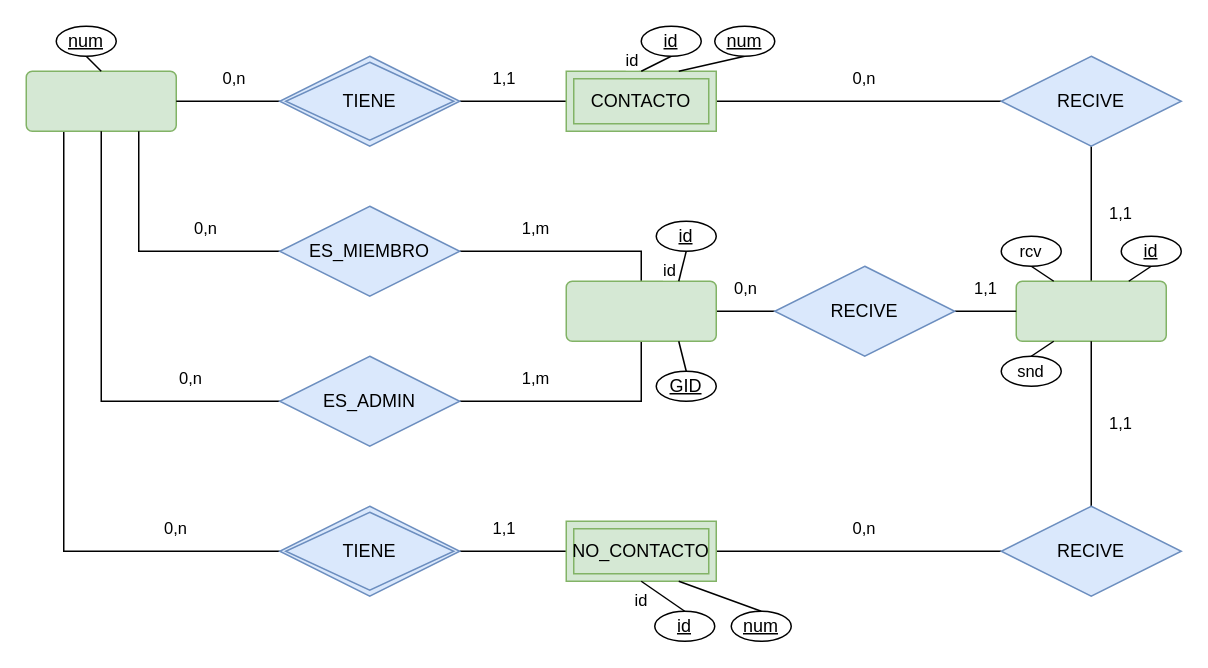
Image size: 1208x668. Some labels were removed from this diagram. The shapes that lost their labels are listed below. From the top down, each one's box as (x1, y1, x2, y2) in pixels, then its label:
(25, 70, 176, 131): USER
(565, 280, 716, 341): GRUPO
(1015, 280, 1166, 341): MSG
